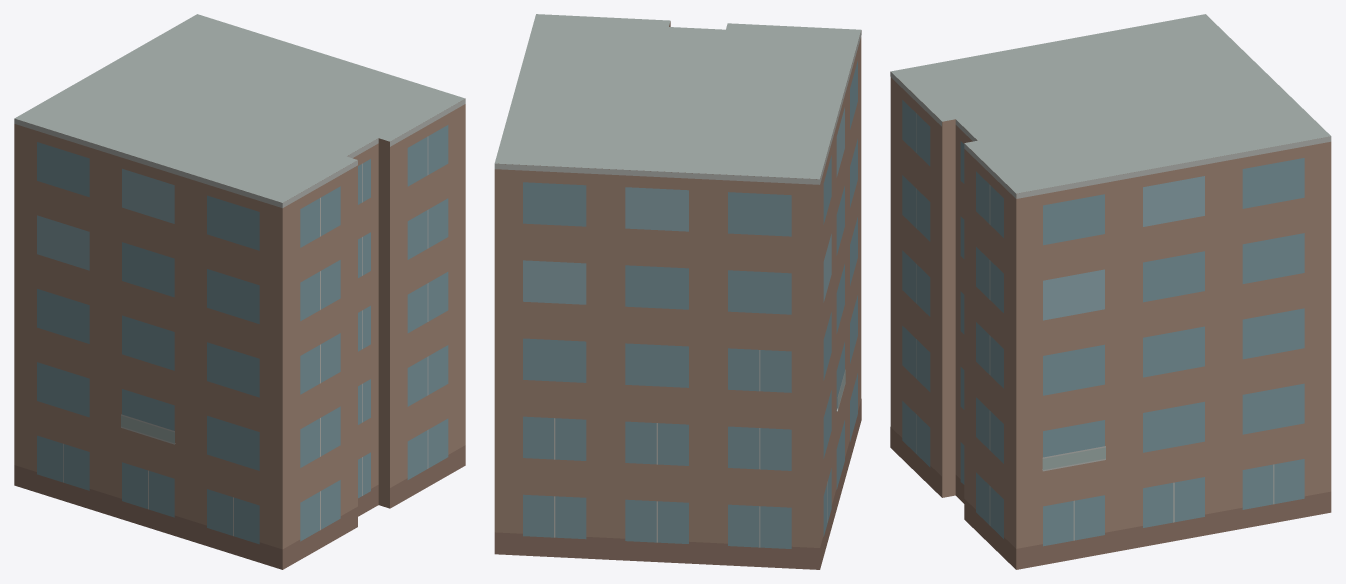
Rendered from survey-upis-32586557.glb.
3 renders of one model, left to right at view 1: azimuth 30°, elevation 25°; view 2: azimuth 150°, elevation 25°; view 3: azimuth 270°, elevation 25°, orthographic. The views are drawn at different scales.
Parts seen in each view (by area): view 1: survey-upis-32586557.tmp; view 2: survey-upis-32586557.tmp; view 3: survey-upis-32586557.tmp.
Boxes of the visible parts, x1,y1,x2,y2 form: survey-upis-32586557.tmp: [14, 14, 465, 569]; survey-upis-32586557.tmp: [494, 14, 861, 569]; survey-upis-32586557.tmp: [890, 14, 1331, 569].
Size of the model in its own units: 17.47 by 17.05 by 18.12.
